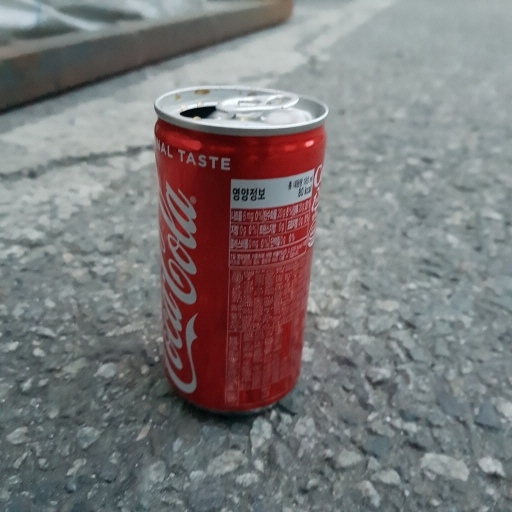Metal_0: (145, 80, 332, 423)
